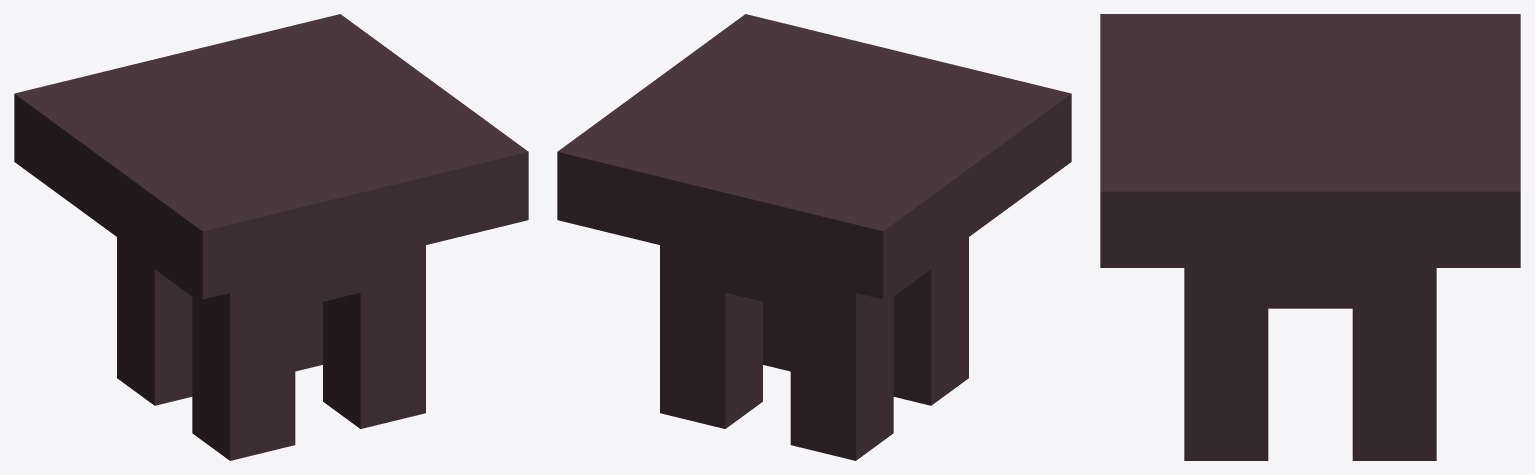
Rendered from small_bench_c.obj.
3 renders of one model, left to right at view 1: azimuth 30°, elevation 25°; view 2: azimuth 150°, elevation 25°; view 3: azimuth 270°, elevation 25°, orthographic. The views are drawn at different scales.
Size of the model in its own units: 0.5 by 0.4 by 0.5.
Materials: 1 (1 with a texture image).
